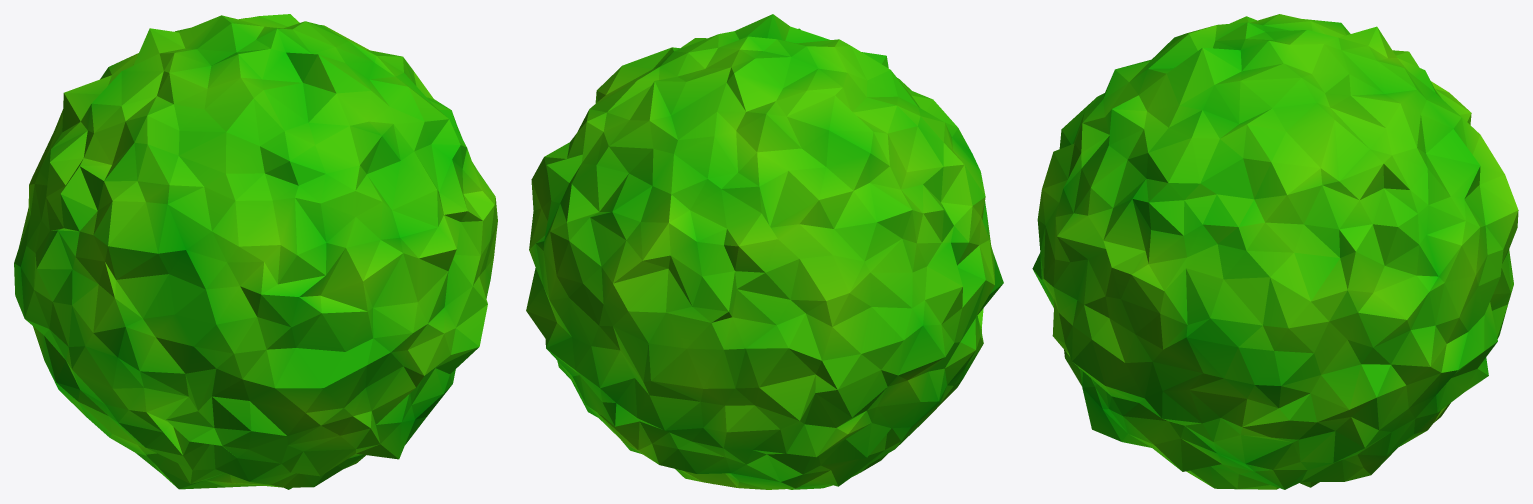
Rendered from Suns_Sun03.fbx.
3 renders of one model, left to right at view 1: azimuth 30°, elevation 25°; view 2: azimuth 150°, elevation 25°; view 3: azimuth 270°, elevation 25°, orthographic. The views are drawn at different scales.
Visible parts, largest first — view 1: Sun03; view 2: Sun03; view 3: Sun03.
Part boxes in pixels (x1,y1,x2,y2): Sun03: (14, 14, 497, 489); Sun03: (526, 14, 1003, 489); Sun03: (1032, 14, 1518, 489).
Bounding box in the file's own units: 20.62 × 20.71 × 20.79.
